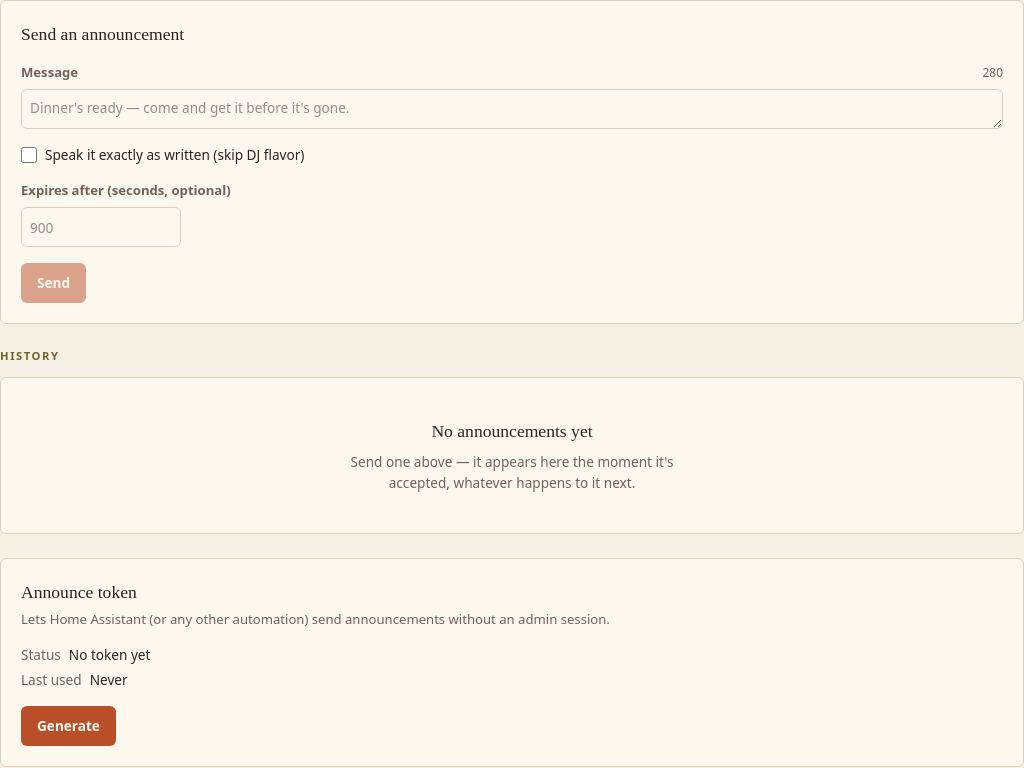
Feature: The Announcements page › Scenario: sending from the page › shows the new entry immediately as pending (T344, STORY-361 AC1)
The image size is (1024, 768).
Type "Dinner is ready" into the text box labelled "Message" at (512, 109), box [21,89,1003,129]
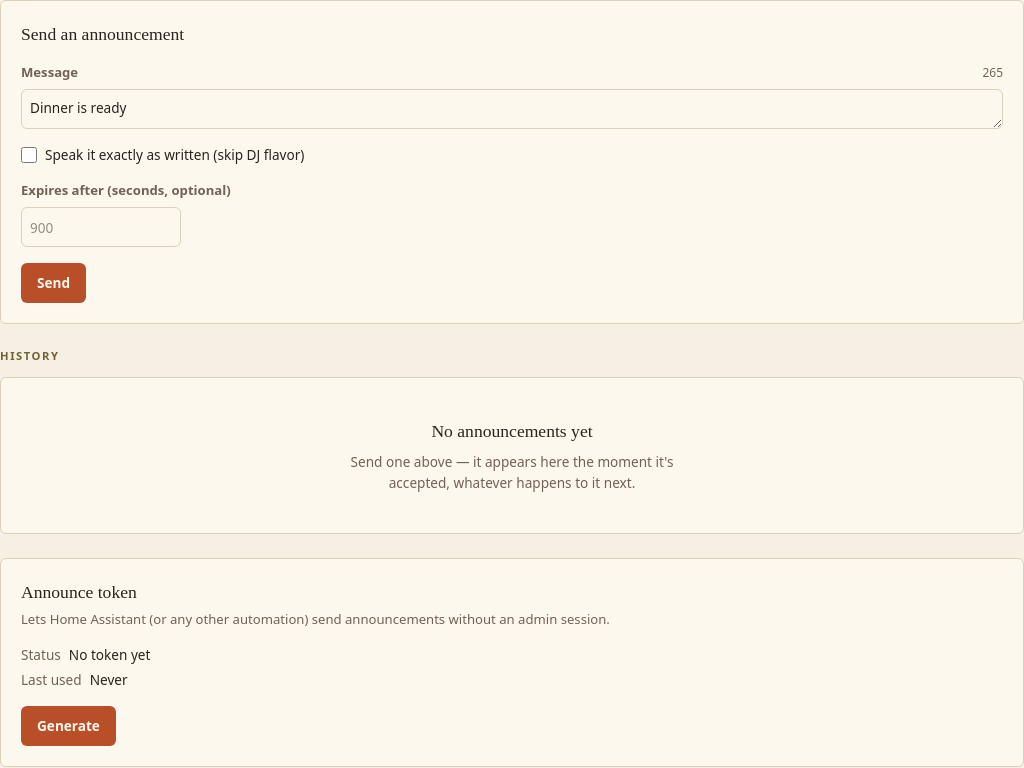
Click the button "Send" at (54, 283), box [21,263,86,303]
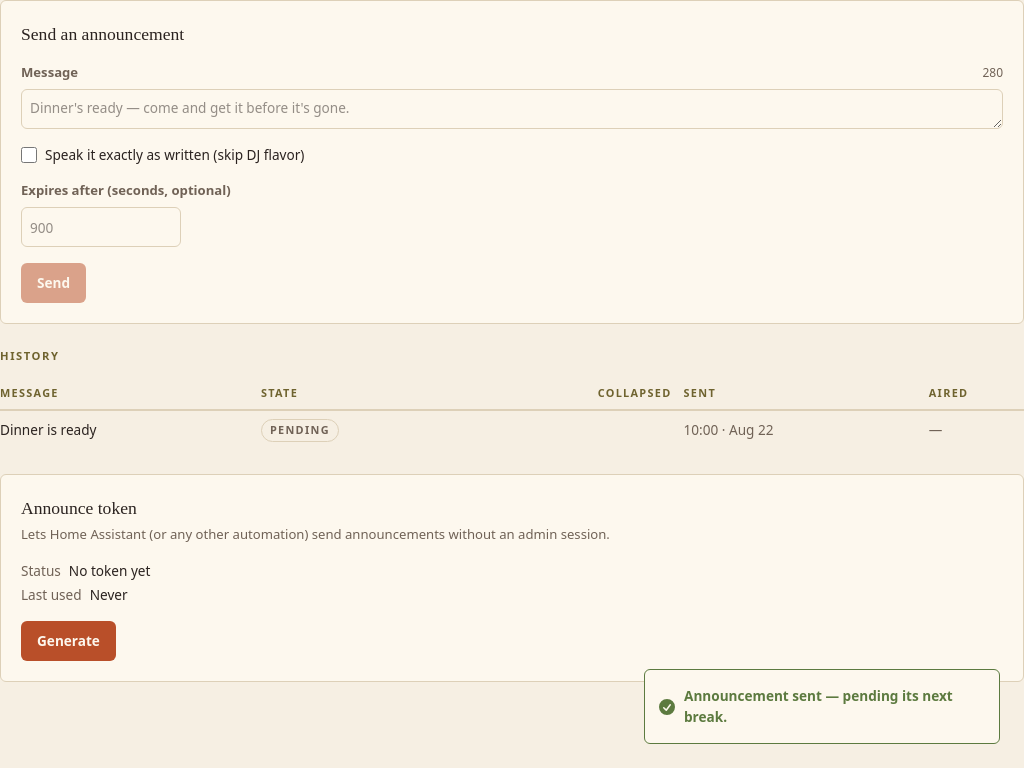
Expected: the text "Dinner is ready" is shown, [0,410,261,450]
Expected: the text "pending" is shown, [261,419,339,442]
